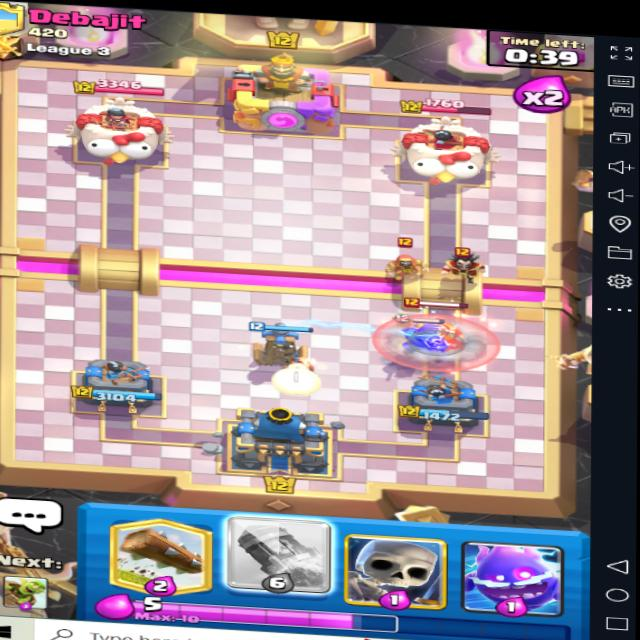electro-wizard: (436, 242, 492, 290)
mega-knight: (396, 292, 472, 357)
wizard: (377, 229, 430, 292)
